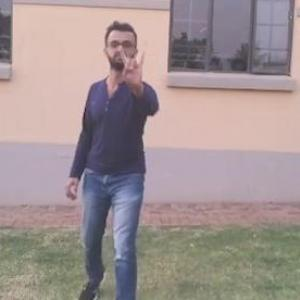takeoff-hand: (116, 38, 151, 88)
